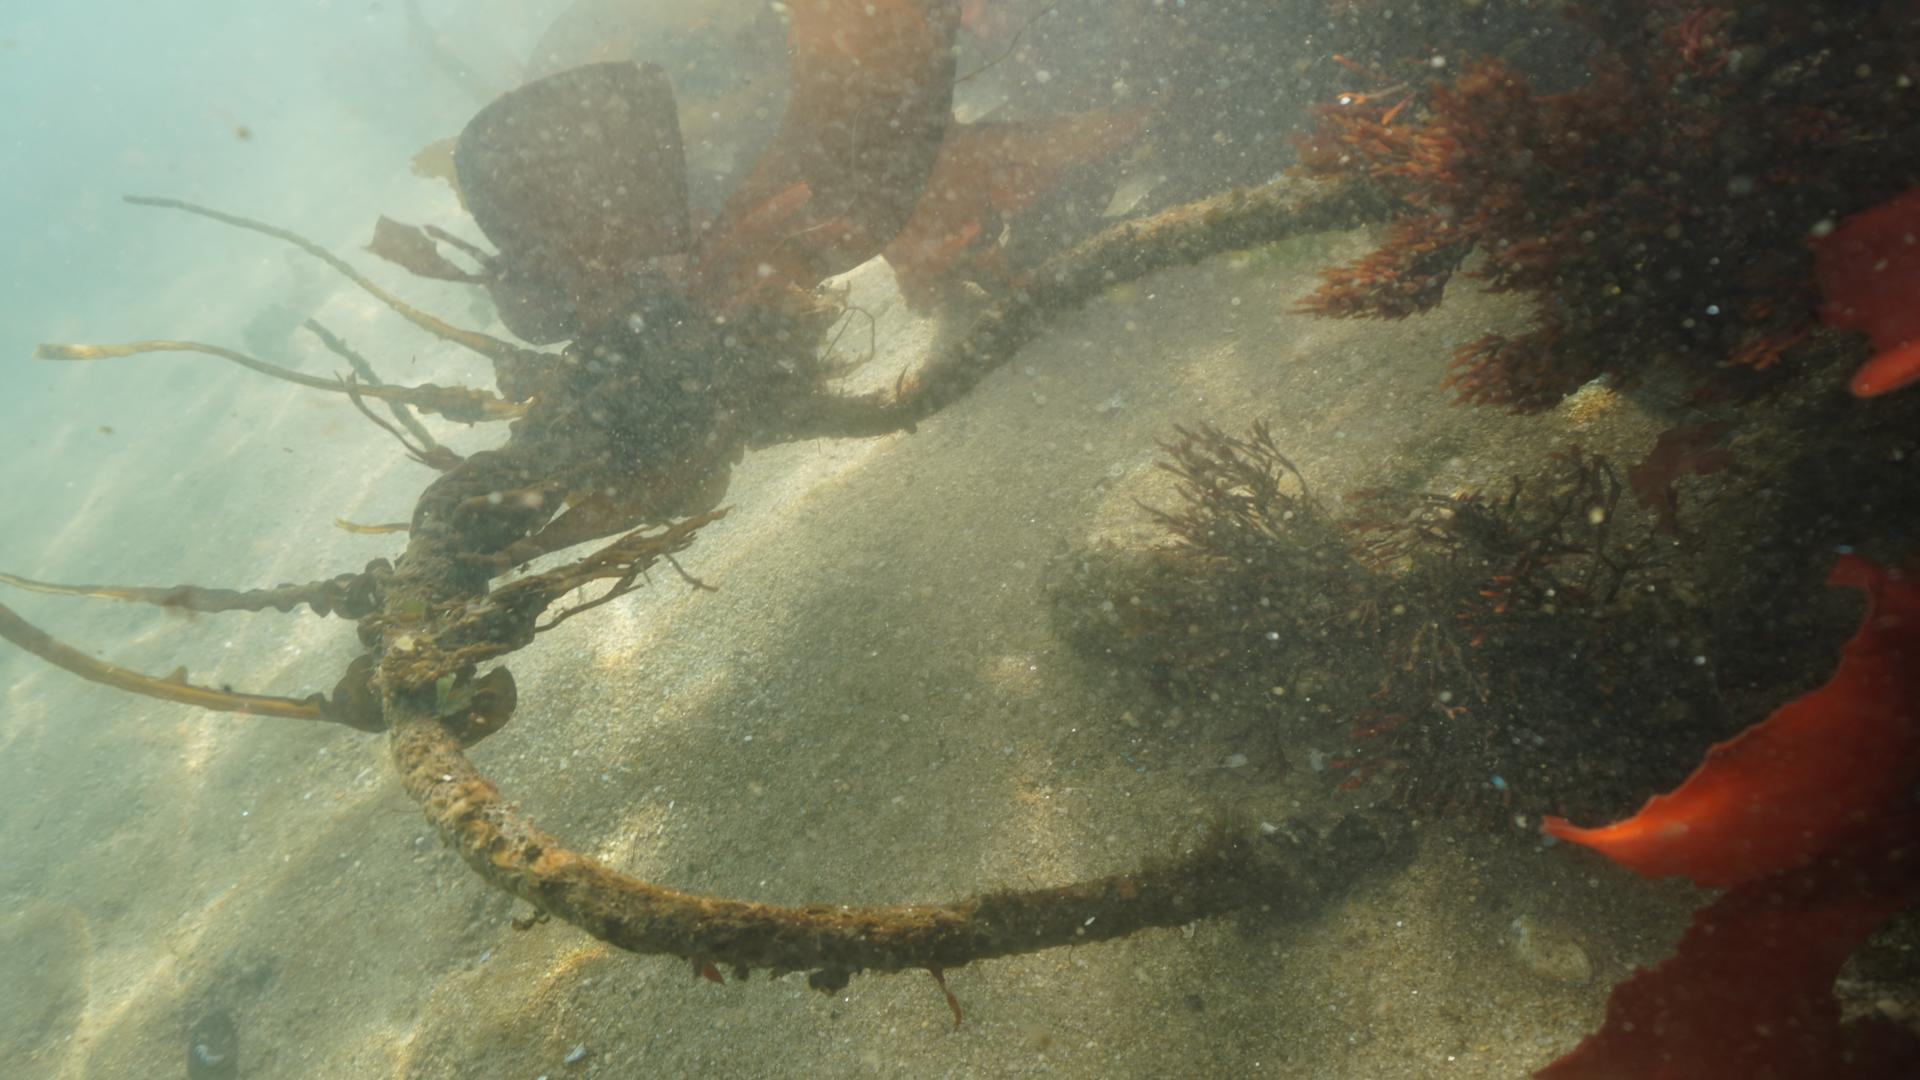rope: (364, 153, 1495, 992)
